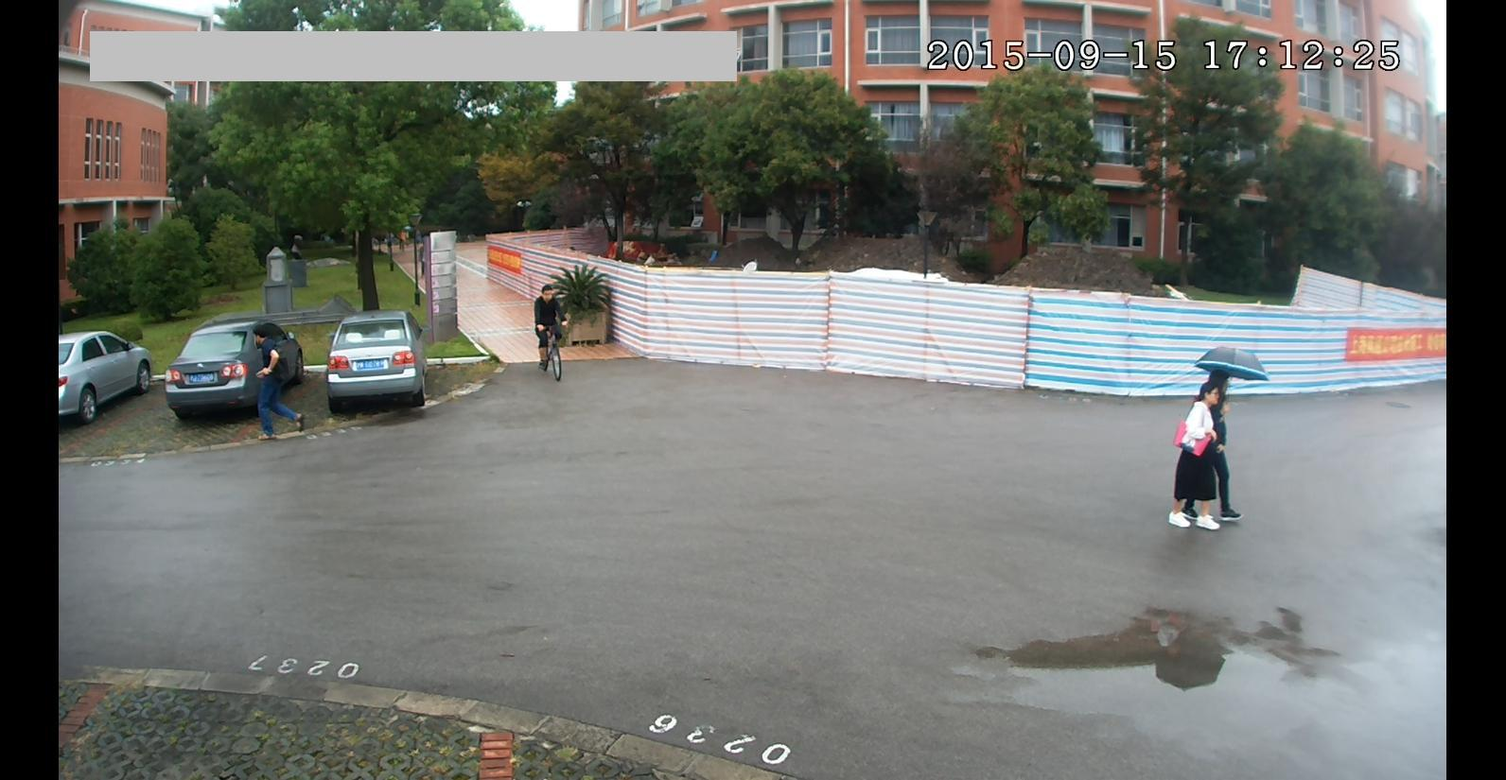person: (1210, 359, 1274, 531), (1172, 382, 1218, 553), (250, 328, 309, 443), (532, 284, 571, 384)
